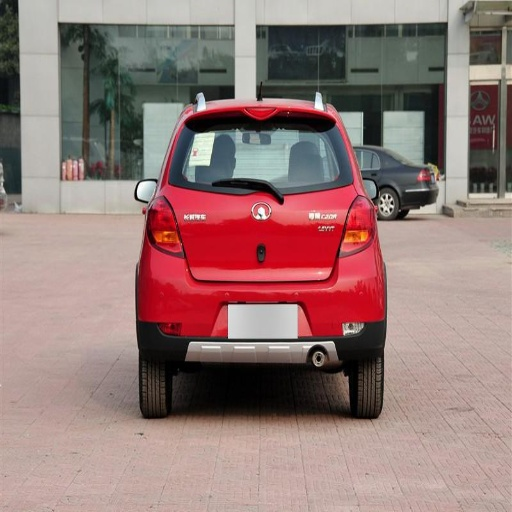back_bumper: (134, 242, 387, 363)
trunk: (161, 178, 359, 298)
